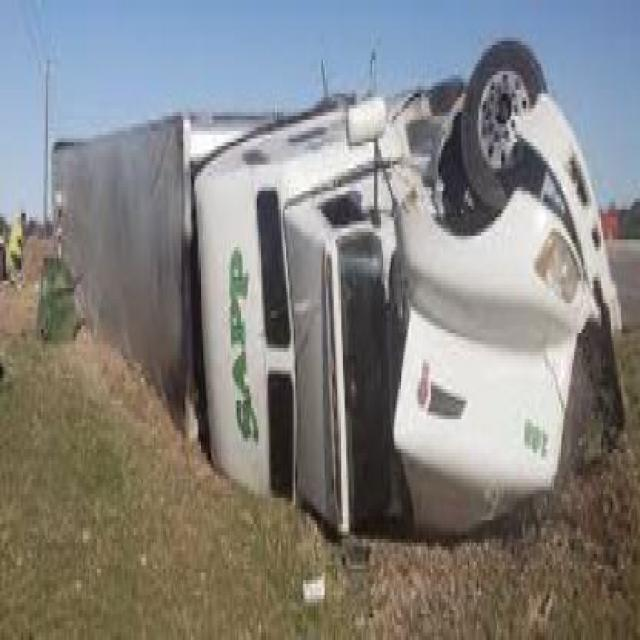accident: (38, 22, 640, 558)
